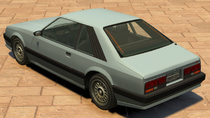car: (4, 5, 205, 116)
